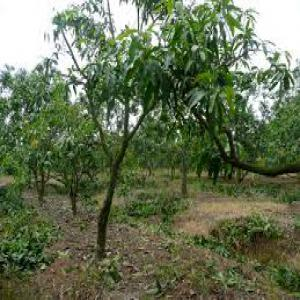Tree: (45, 3, 202, 252)
